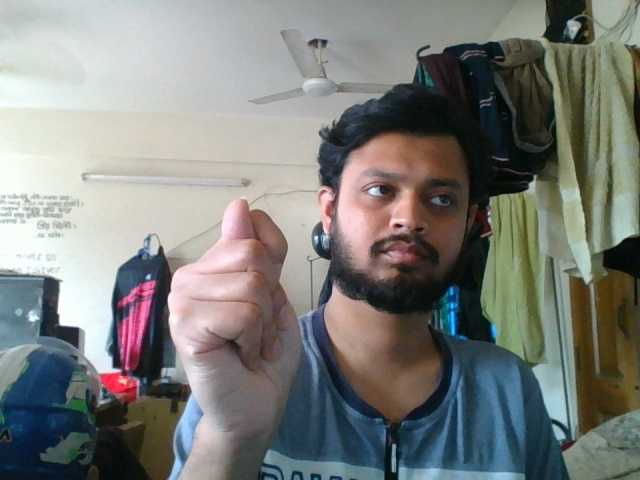ta: (165, 195, 308, 451)
